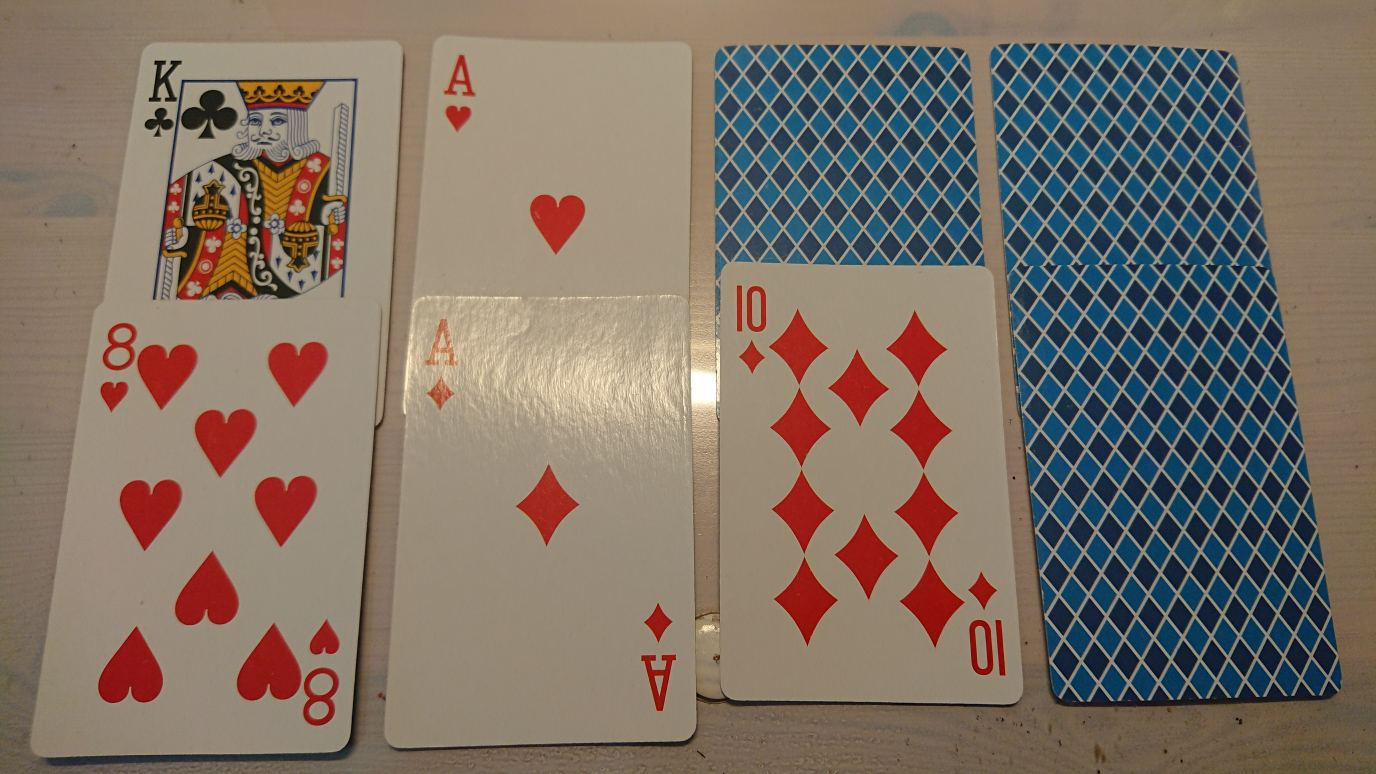10D: (729, 282, 771, 379)
8H: (94, 318, 140, 416)
AD: (420, 316, 464, 414)
AH: (441, 50, 478, 138)
BACK: (1007, 266, 1343, 704), (988, 43, 1272, 265), (713, 44, 987, 266)
KC: (140, 56, 185, 142)
